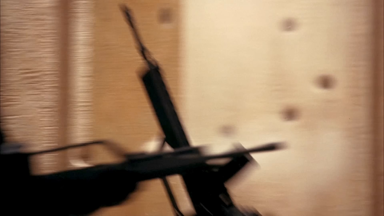firearm: (115, 4, 261, 213), (5, 132, 289, 211)
